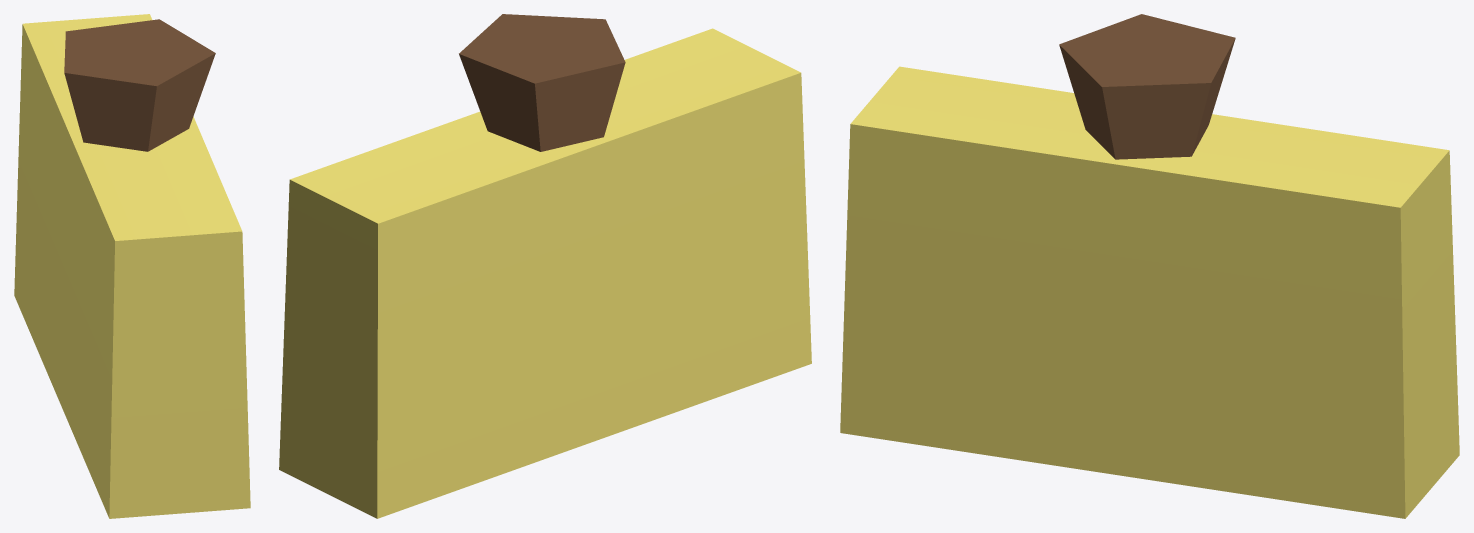
File: Office2_vial_2.fbx
3 views of the same model, side by side, from view 1: azimuth 30°, elevation 25°; view 2: azimuth 150°, elevation 25°; view 3: azimuth 270°, elevation 25° (orthographic). The views are drawn at different scales.
Parts seen in each view (by area): view 1: Office2_vial_2; view 2: Office2_vial_2; view 3: Office2_vial_2.
Part boxes in pixels (x1,y1,x2,y2): Office2_vial_2: (14,14,250,518); Office2_vial_2: (279,14,811,518); Office2_vial_2: (840,14,1459,518).
Size of the model in its own units: 10.02 by 12.19 by 17.52.
